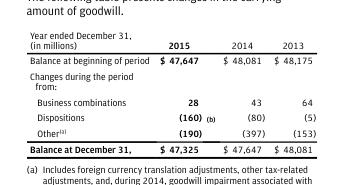table: (29, 29, 315, 154)
table column: (29, 29, 153, 154), (153, 29, 218, 154), (218, 29, 268, 154), (268, 29, 315, 154)
table column header: (29, 29, 315, 52)
table projected row header: (29, 68, 315, 93)
table row: (29, 68, 315, 93), (29, 29, 315, 52), (29, 52, 315, 68), (29, 93, 315, 109), (29, 109, 315, 125), (29, 125, 315, 140), (29, 140, 315, 154)
